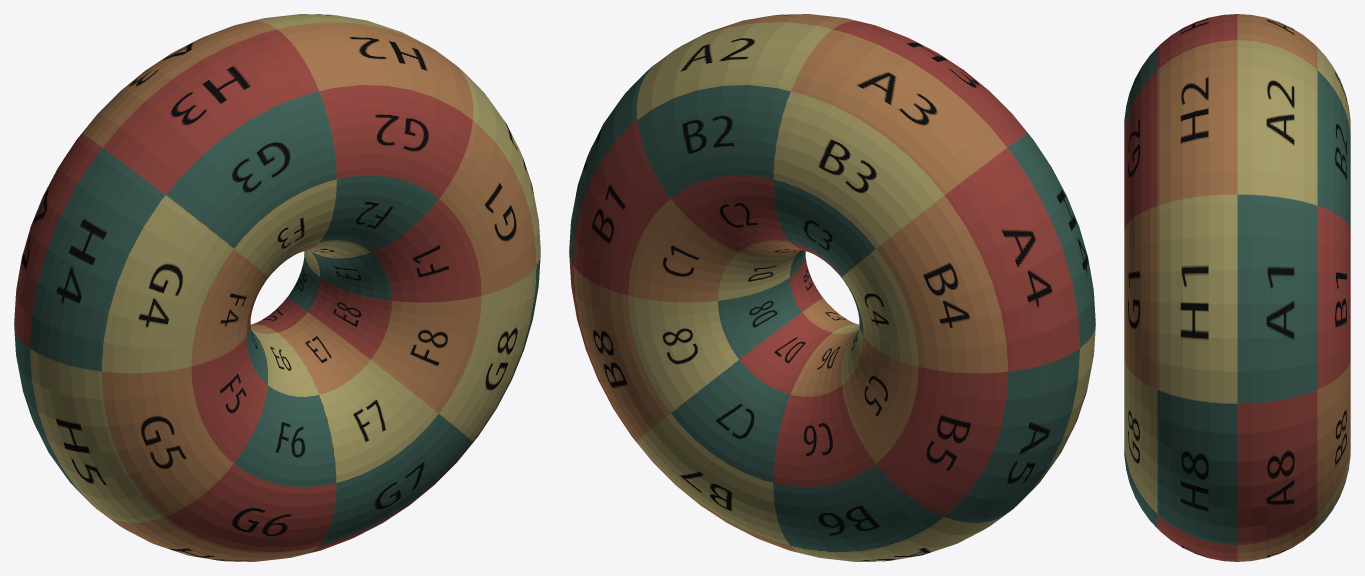
Rendered from texture_torus_R4_r26.glb.
3 views of the same model, side by side, from view 1: azimuth 30°, elevation 25°; view 2: azimuth 150°, elevation 25°; view 3: azimuth 270°, elevation 25° (orthographic). The views are drawn at different scales.
Parts seen in each view (by area): view 1: world; view 2: world; view 3: world.
Part boxes in pixels (box(x1,y1,x2,y2)): world: box(14, 14, 540, 561); world: box(569, 14, 1095, 561); world: box(1124, 14, 1350, 561).
Size of the model in its own units: 21.6 by 21.56 by 8.92.
Materials: 1 (1 with a texture image).
